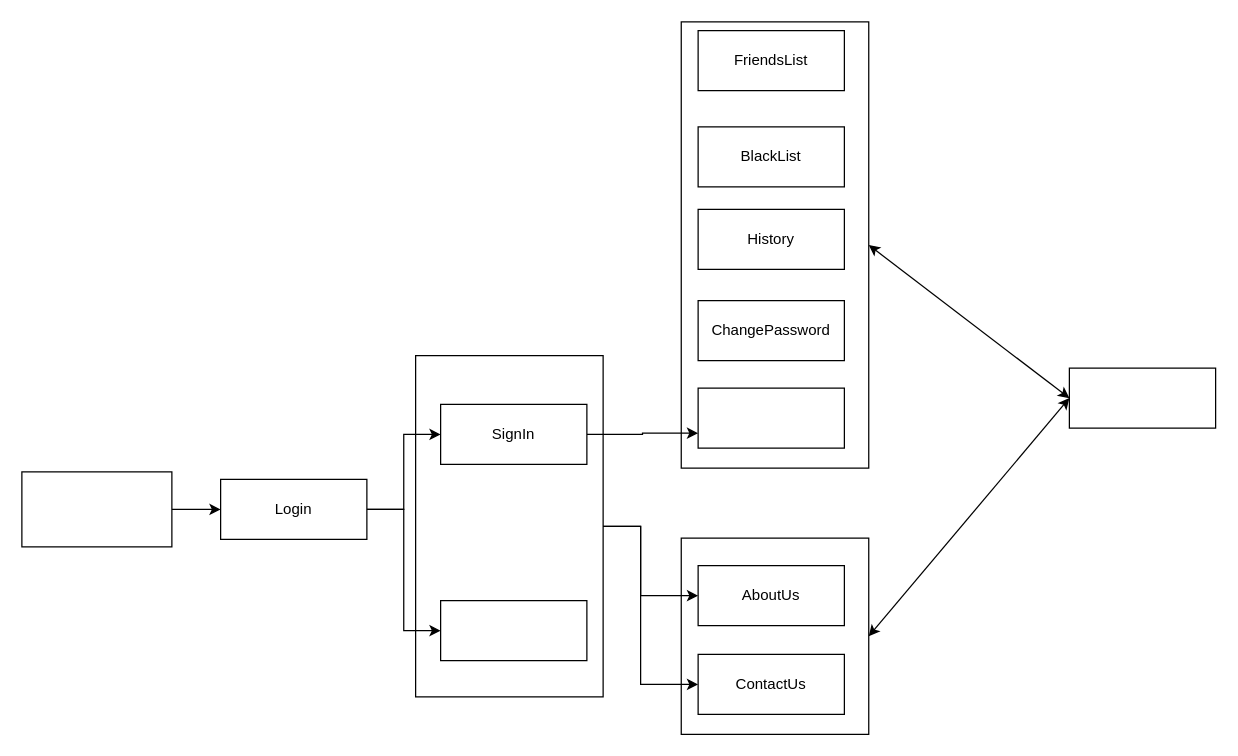
This 1238x756 diagram has some shape labels left out. The box of each missing label's shape, as (x1, y1, x2, y2) in pixels:
AfterLogin: (697, 387, 844, 448)
LoginMainDrawer: (1068, 367, 1216, 428)
MyApp: (21, 471, 172, 547)
SignUp: (439, 599, 587, 661)
